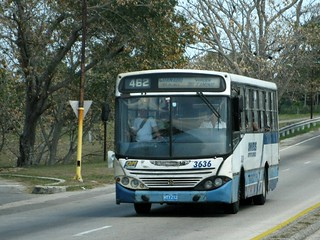bus: (112, 70, 279, 214)
